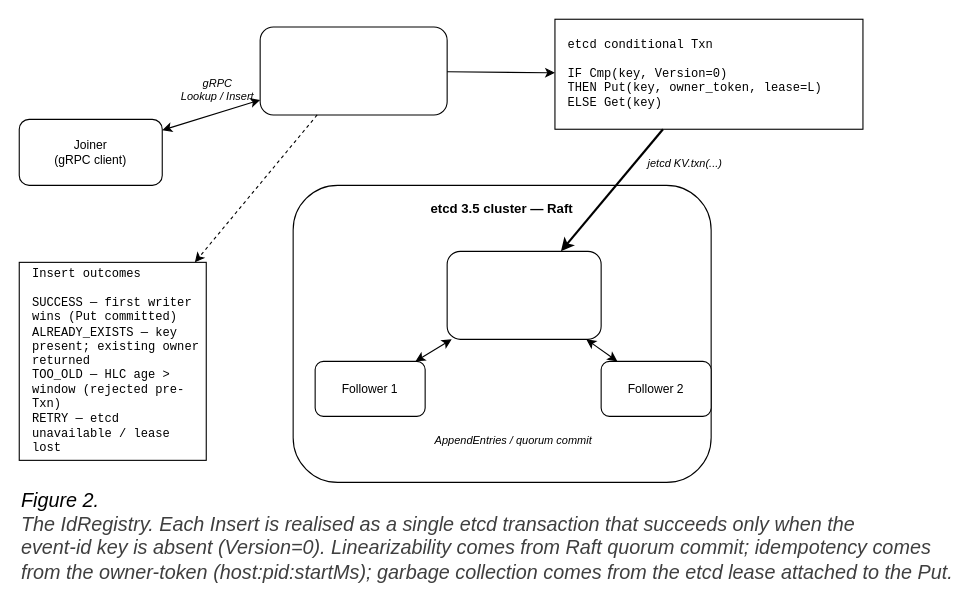
The diagram is 974 pixels wide and 604 high, and some of its shapes have lost their labels. The centre of each missing label's shape, as x and y in pixels:
"IdRegistryServer :9091" goes at (353,70).
"Leader :2379 applies log to MVCC store" goes at (523,294).
